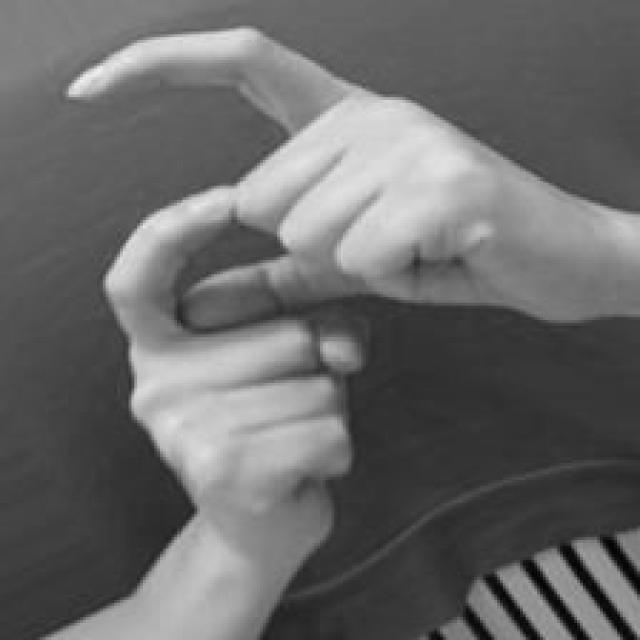G: (62, 25, 600, 548)
